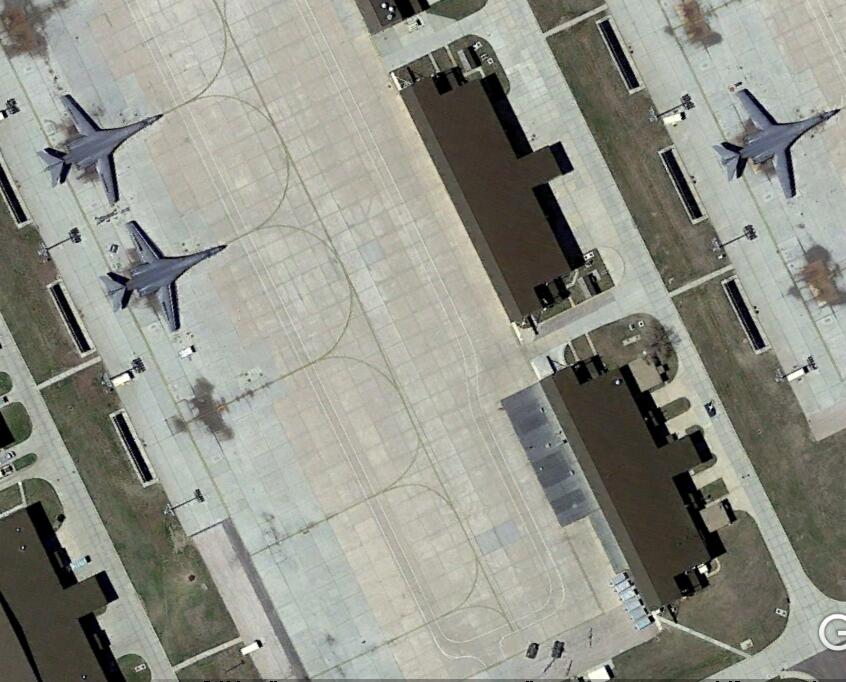A10: (715, 84, 845, 204), (101, 220, 234, 337), (41, 90, 167, 213)
